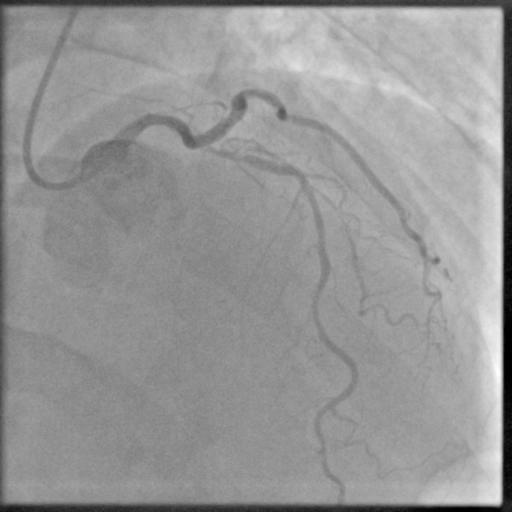Stenosis: (205, 138, 258, 163)
